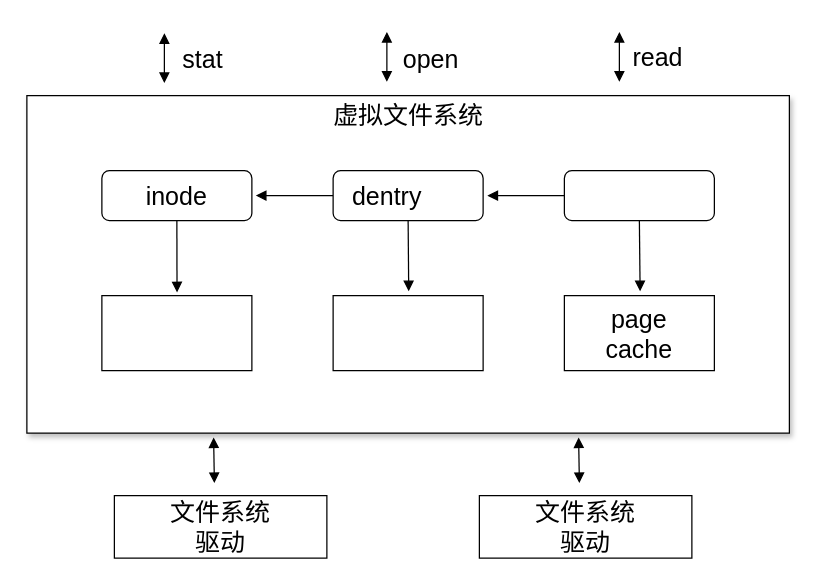
The diagram is 819 pixels wide and 580 high, and some of its shapes have lost their labels. The centre of each missing label's shape, as x and y in pixels:
"dentry cache" belongs at [407,332].
"FILE" belongs at [638,195].
"inode cache" belongs at [176,332].
